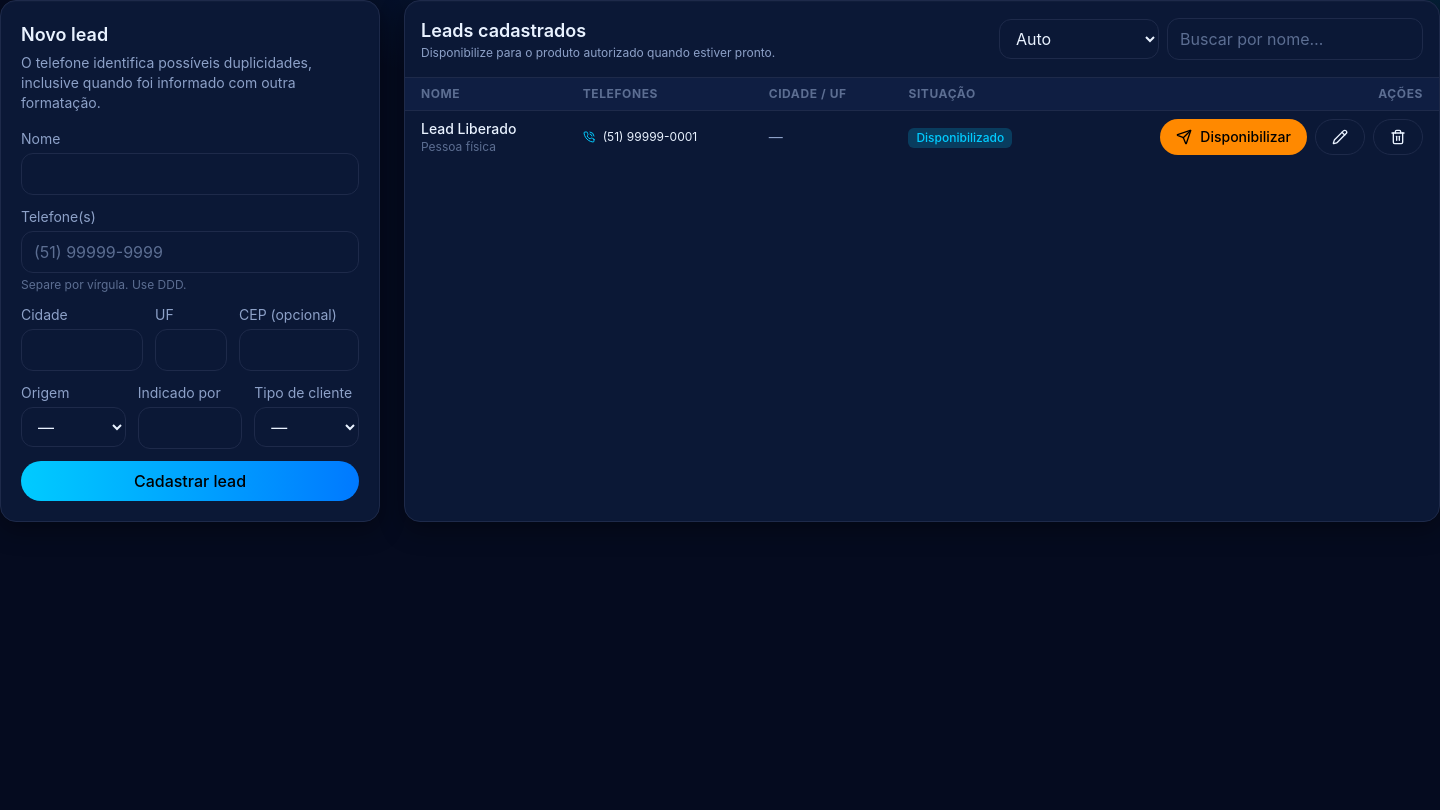
Test: Fluxos do SDR › mostra leads disponibilizados e envia exclusões para avaliação
The image size is (1440, 810).
expect the text "Disponibilizado" is shown: met, box top-left (908, 128), bottom-right (1012, 148)
Click the button named "Excluir lead" at (1398, 137), box top-left (1373, 119), bottom-right (1423, 155)
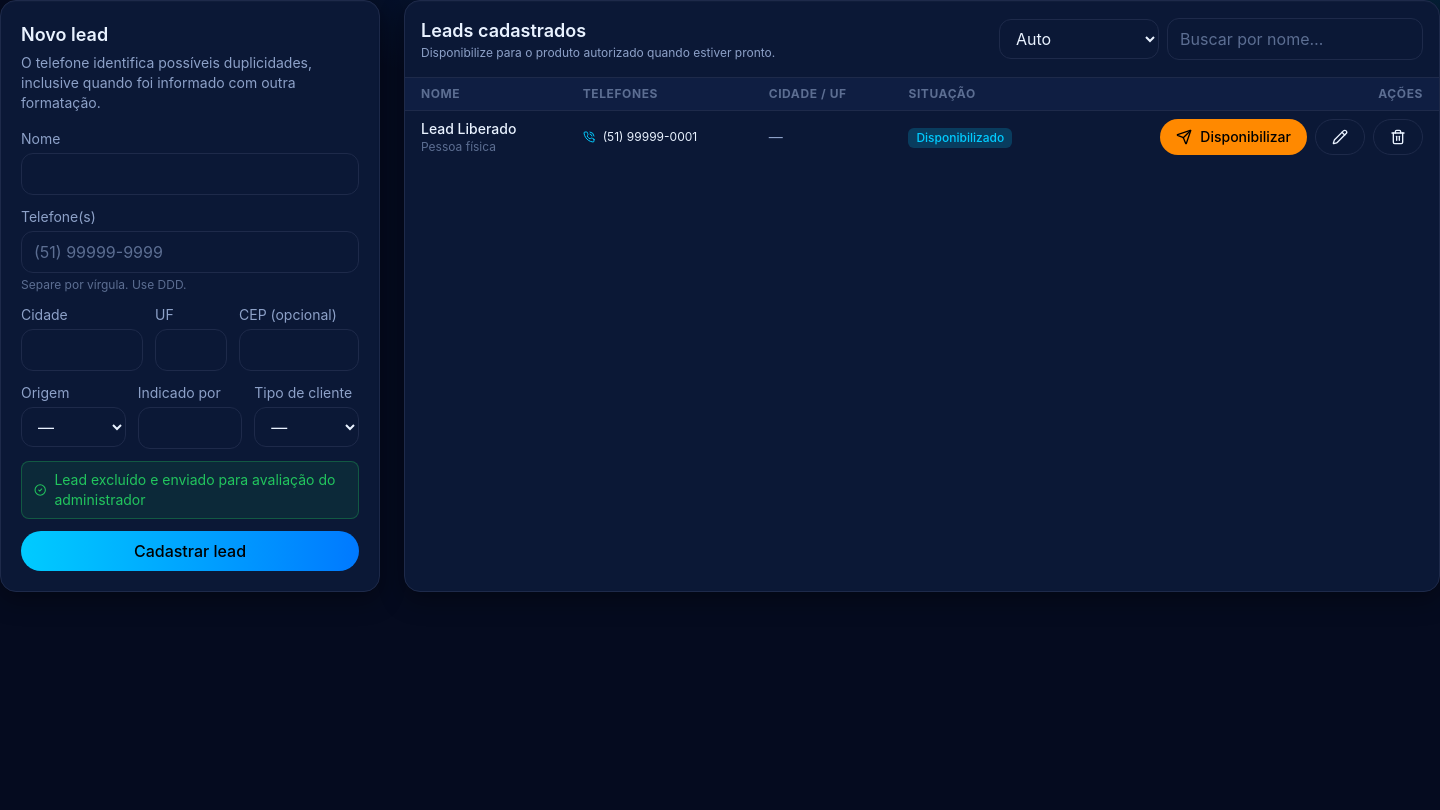
expect the text "Lead excluído e enviado para avaliação do administrador" is shown: met, box top-left (21, 461), bottom-right (359, 519)
